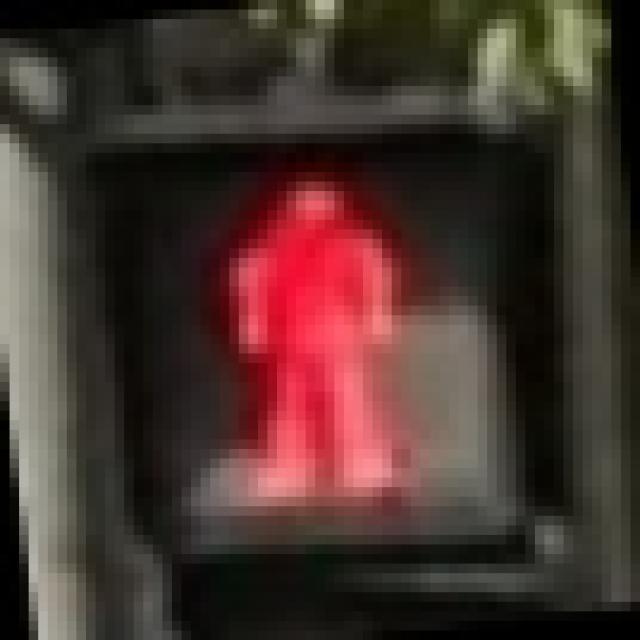red-crossing: (67, 86, 535, 544)
